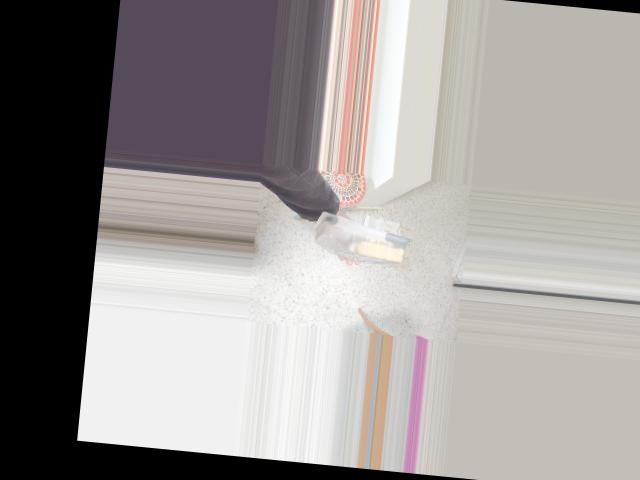cheese: (308, 207, 411, 267)
